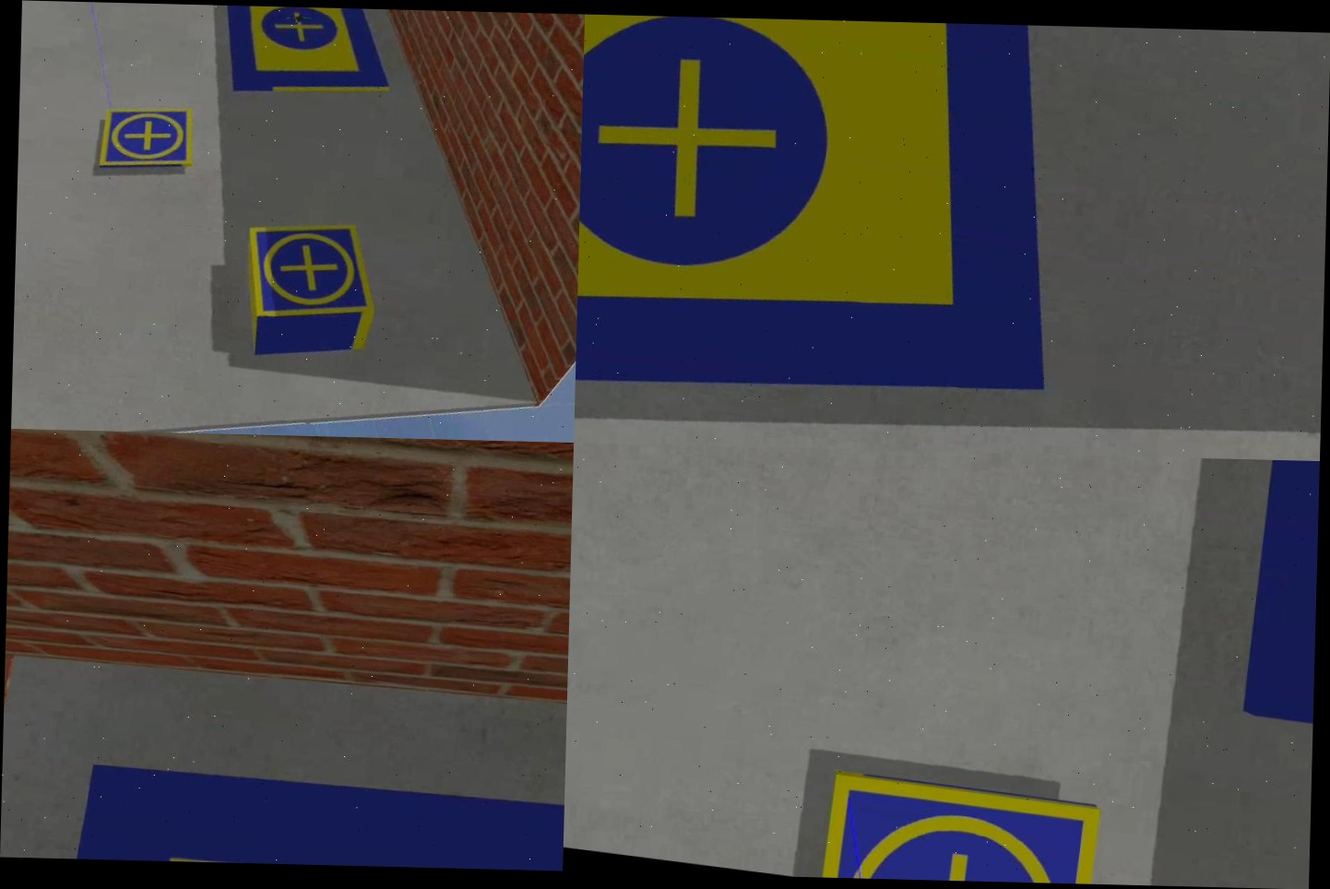large_base: (574, 15, 1105, 456), (38, 729, 566, 871), (1233, 459, 1319, 729), (216, 6, 400, 105)
small_base: (817, 768, 1103, 883), (235, 210, 390, 342), (93, 98, 201, 181)
